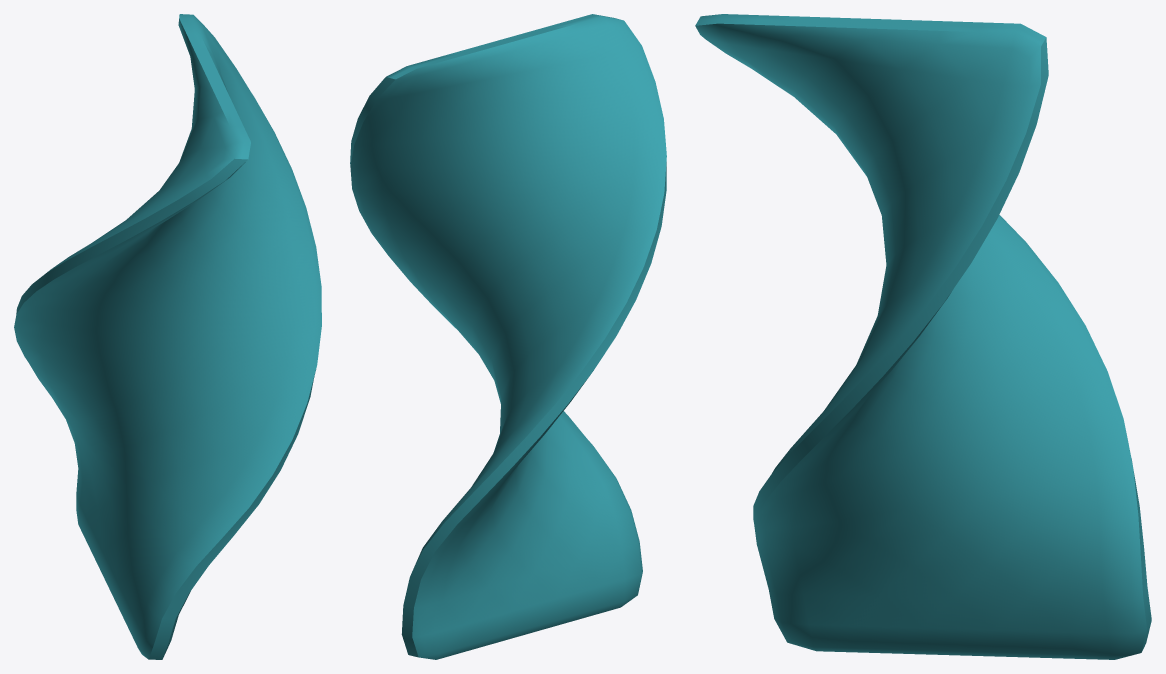
Rendered from Normal.fbx.
3 views of the same model, side by side, from view 1: azimuth 30°, elevation 25°; view 2: azimuth 150°, elevation 25°; view 3: azimuth 270°, elevation 25° (orthographic). The views are drawn at different scales.
Parts seen in each view (by area): view 1: Normal; view 2: Normal; view 3: Normal.
Boxes of the visible parts, x1=… form: Normal: x1=14, y1=14, x2=321, y2=659; Normal: x1=350, y1=14, x2=666, y2=659; Normal: x1=695, y1=14, x2=1151, y2=659.
Size of the model in its own units: 68.73 by 136 by 81.34.
Materials: 1 (1 with a texture image).
